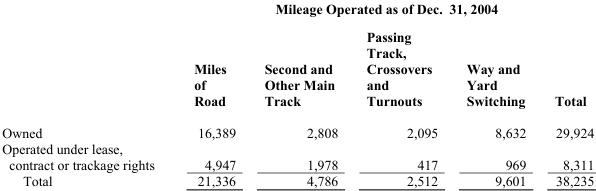table: (1, 0, 593, 188)
table column: (1, 0, 173, 188), (249, 0, 351, 188), (351, 0, 451, 188), (451, 0, 539, 188), (173, 0, 249, 188), (539, 0, 593, 188)
table column header: (1, 0, 593, 116)
table projected row header: (1, 139, 593, 155)
table row: (1, 22, 593, 116), (1, 116, 593, 139), (1, 0, 593, 22), (1, 155, 593, 172), (1, 139, 593, 155), (1, 172, 593, 188)
table spanning cell: (173, 0, 593, 22)
